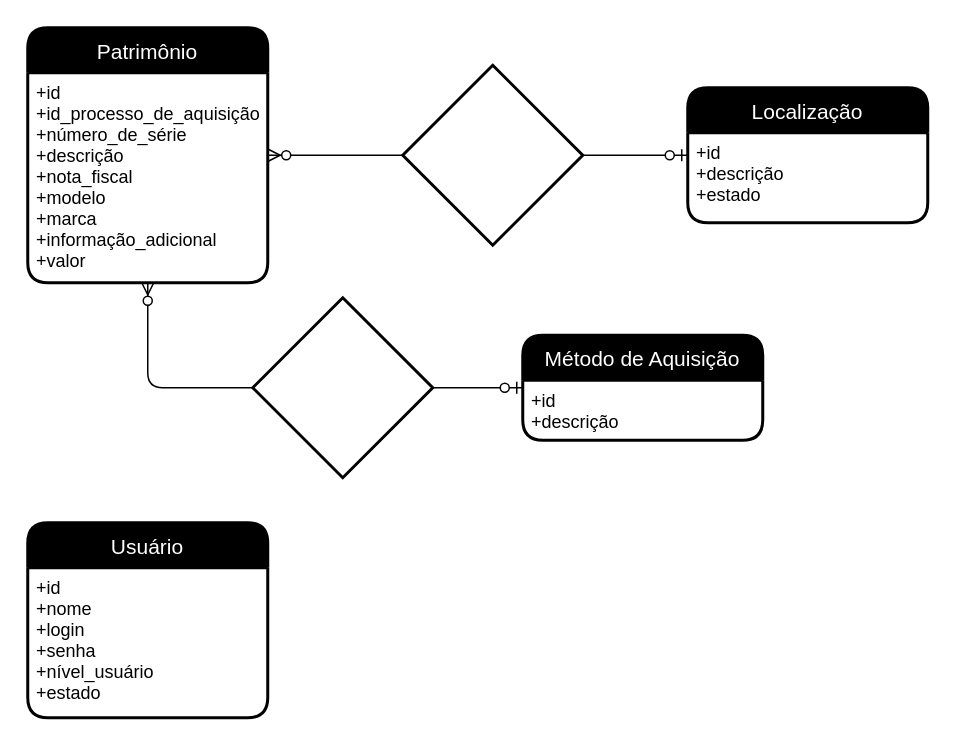
This 954x744 diagram has some shape labels left out. The box of each missing label's shape, as (x1, y1, x2, y2) in pixels:
Possui: (250, 296, 434, 478)
é Localizado por/Localiza: (400, 63, 584, 246)
